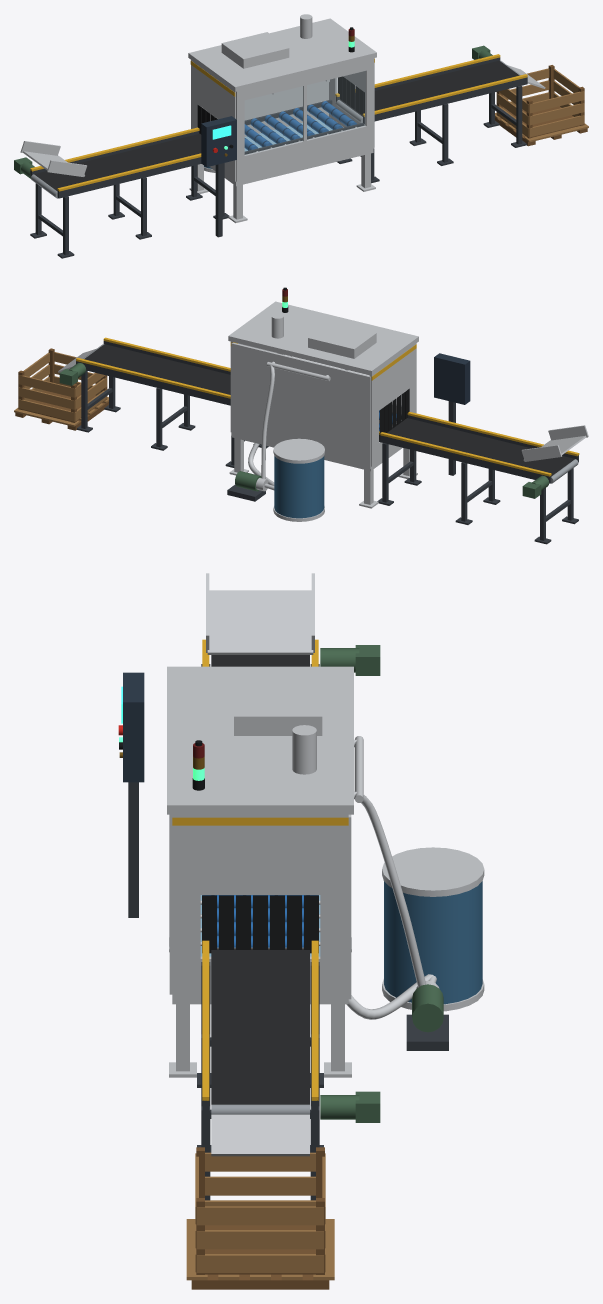
File: fieldworks_washing_station.glb
3 renders of one model, top to bottom at view 1: azimuth 30°, elevation 25°; view 2: azimuth 150°, elevation 25°; view 3: azimuth 270°, elevation 25°, orthographic. The views are drawn at different scales.
Parts seen in each view (by area): view 1: WashingStation, infeed_belt, outfeed_belt; view 2: WashingStation, infeed_belt, outfeed_belt; view 3: WashingStation, outfeed_belt, infeed_belt.
Boxes of the visible parts, bbox=[...] form: WashingStation: bbox=[14, 14, 588, 258]; infeed_belt: bbox=[34, 133, 201, 191]; outfeed_belt: bbox=[339, 60, 519, 116]; WashingStation: bbox=[14, 287, 588, 544]; infeed_belt: bbox=[387, 418, 574, 476]; outfeed_belt: bbox=[84, 344, 230, 394]; WashingStation: bbox=[118, 573, 484, 1289]; outfeed_belt: bbox=[211, 948, 309, 1104]; infeed_belt: bbox=[211, 655, 309, 666].
Bounding box in the file's own units: 7.03 × 2 × 2.07.
